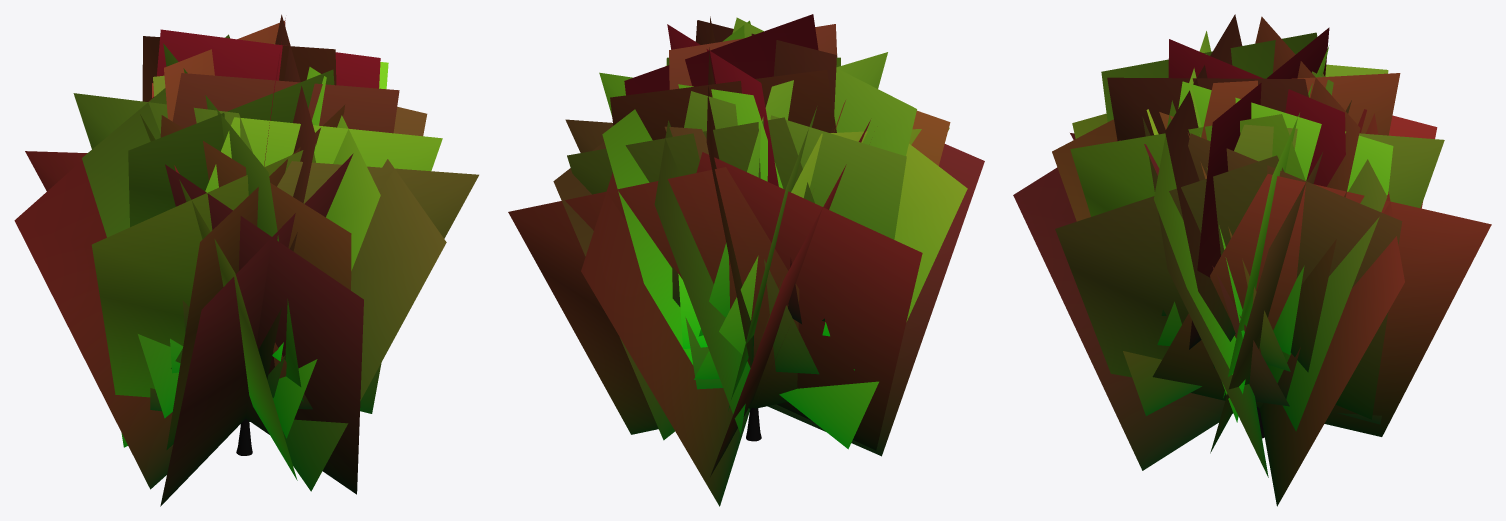
File: Bush_6_2.fbx
3 renders of one model, left to right at view 1: azimuth 30°, elevation 25°; view 2: azimuth 150°, elevation 25°; view 3: azimuth 270°, elevation 25°, orthographic. The views are drawn at different scales.
Parts seen in each view (by area): view 1: _12; view 2: _12; view 3: _12.
Boxes of the visible parts, box(x1,y1,x2,y2) form: _12: box(14, 14, 478, 506); _12: box(508, 14, 984, 506); _12: box(1013, 14, 1491, 506).
Bounding box in the file's own units: 345 × 359 × 383.
